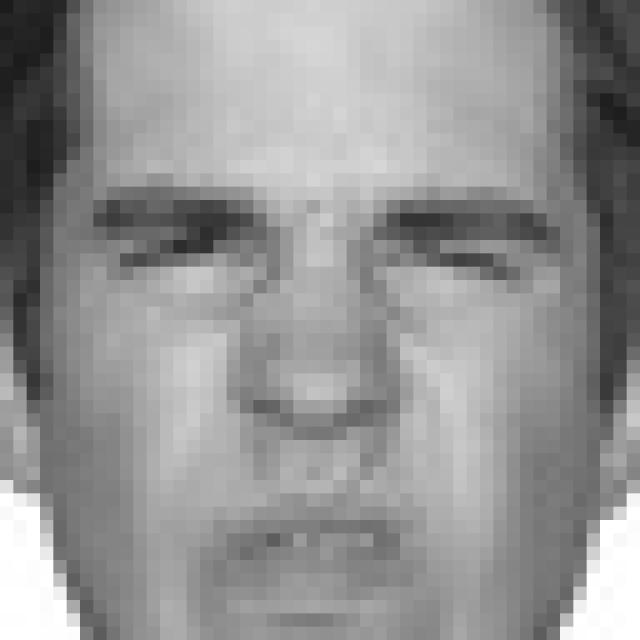disgust: (86, 177, 565, 629)
